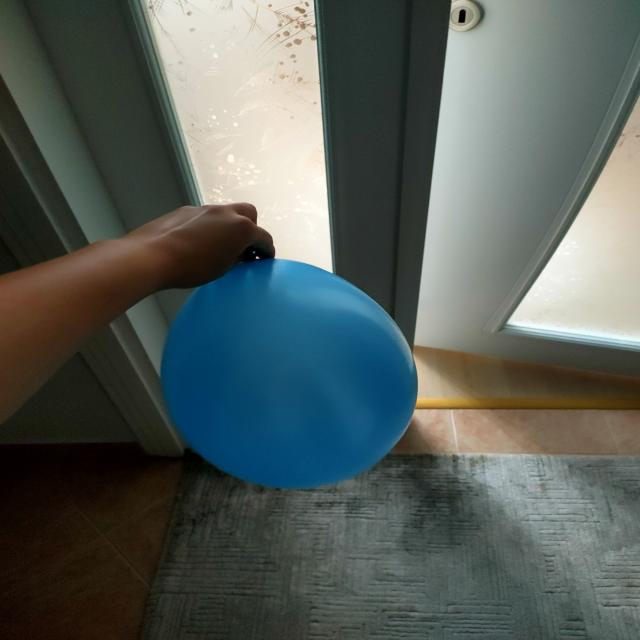blue: (158, 259, 415, 489)
